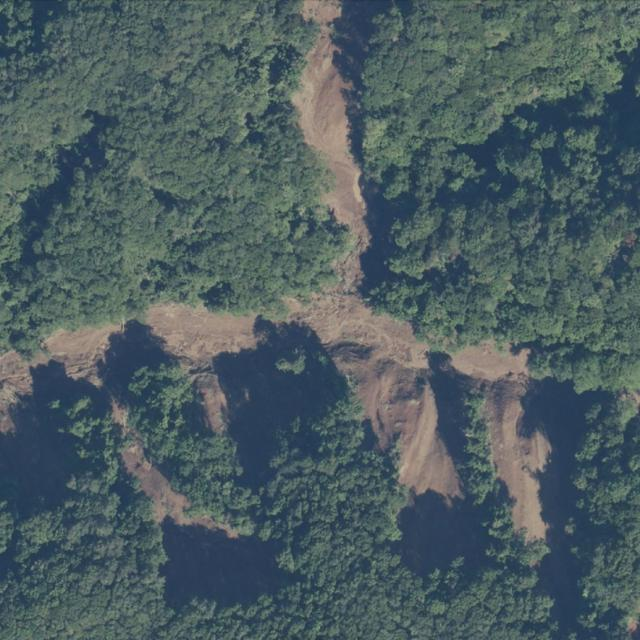landslide: (287, 1, 576, 572), (126, 441, 276, 586), (144, 304, 261, 433), (0, 325, 125, 433)
